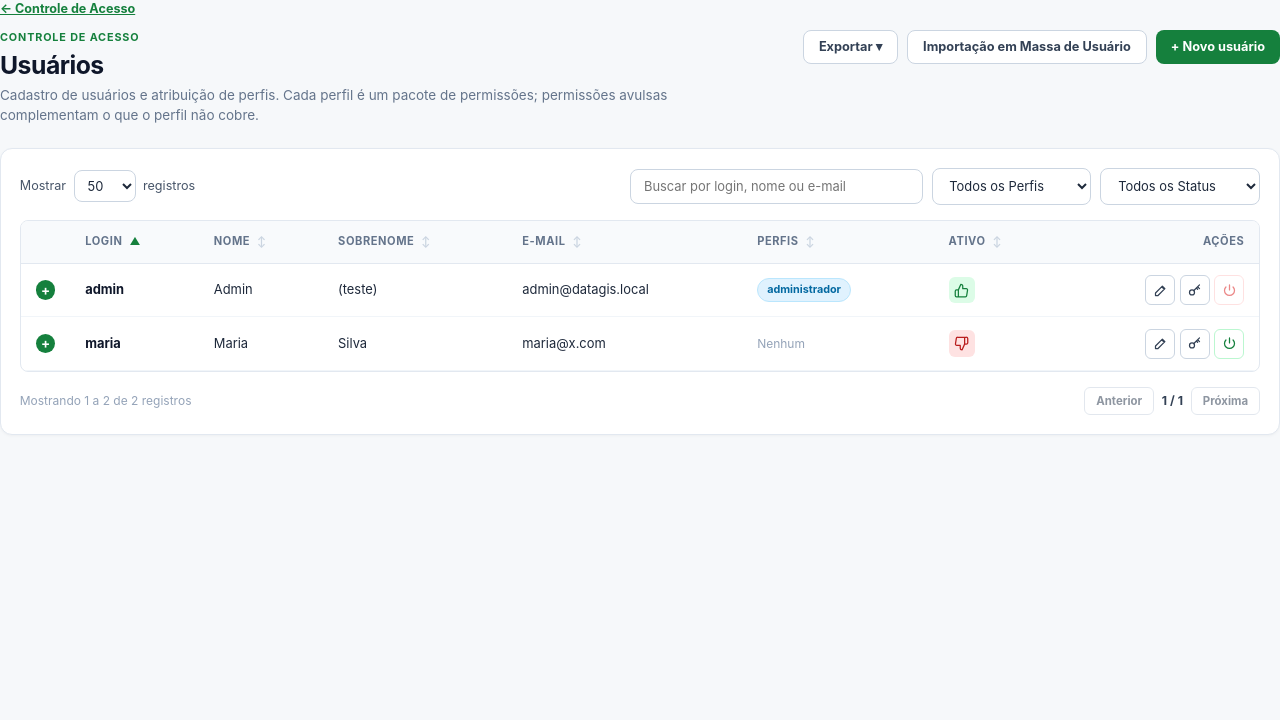
UsuariosView › usuário inativo recebe a confirmação de reativar
The width and height of the screenshot is (1280, 720).
Click the button named "Reativar" at (1229, 344), box [1214,328,1244,358]
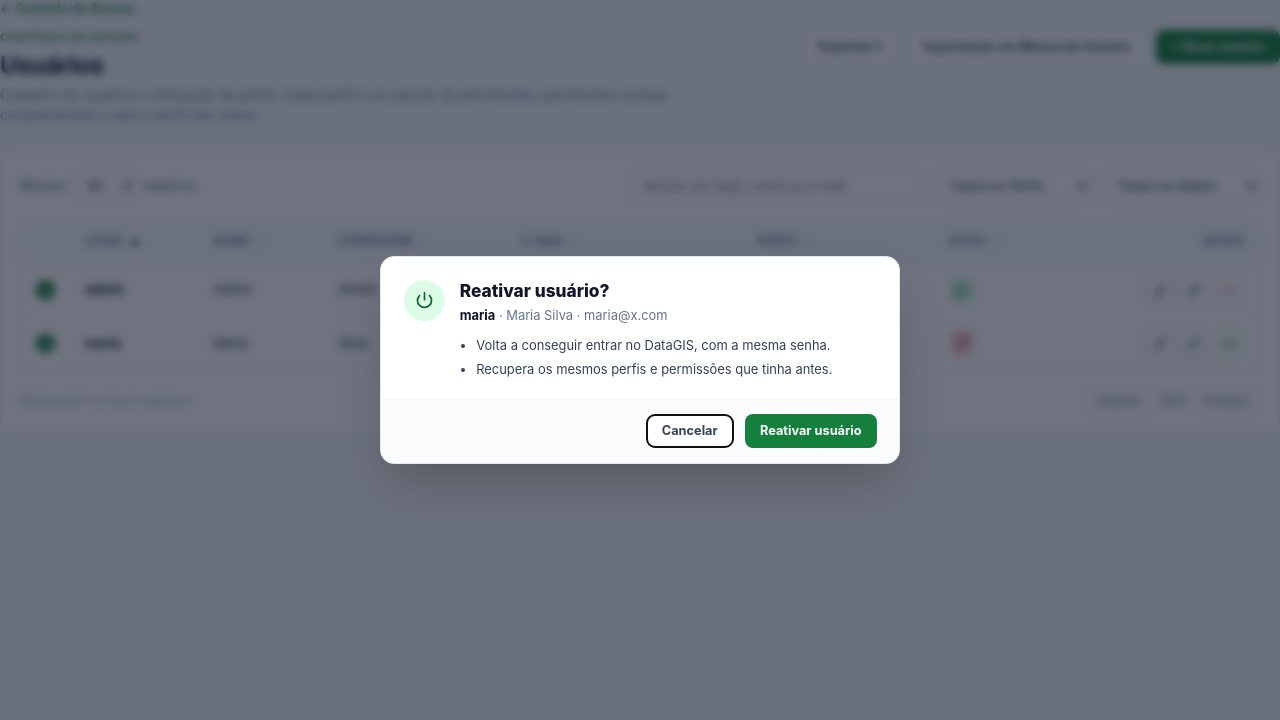
Result: the heading with class "confirmacao-titulo" reads "Reativar usuário?" at [460,280,610,301]
Result: the button with class "btn-primario" reads "Reativar usuário" at [745,414,876,448]
